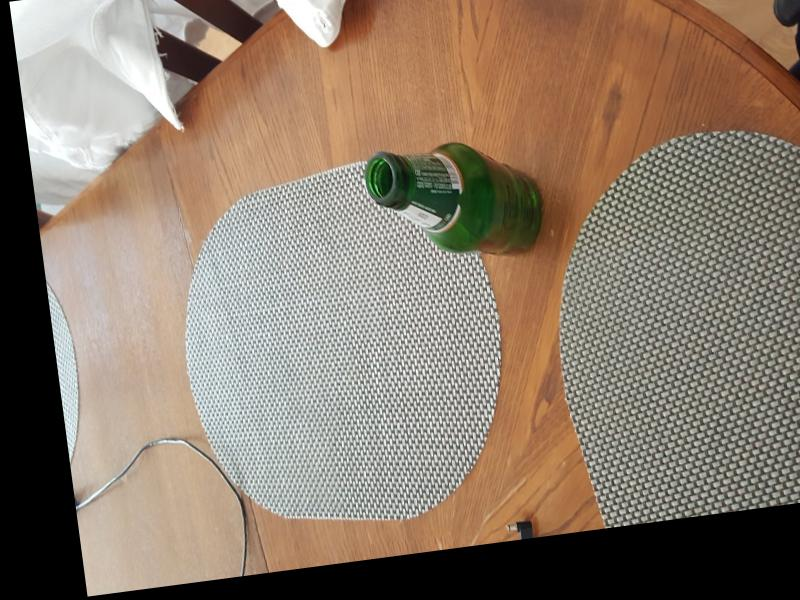Beer: (362, 132, 550, 270)
